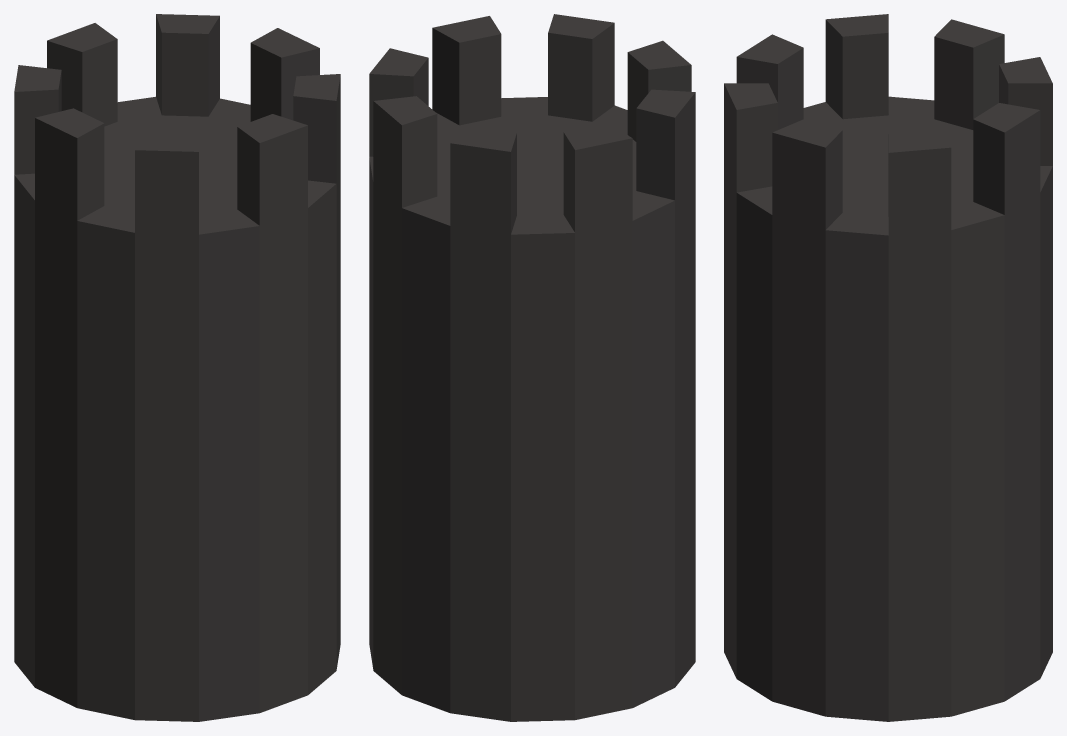
The model's file is Lava_Building2.fbx.
3 views of the same model, side by side, from view 1: azimuth 30°, elevation 25°; view 2: azimuth 150°, elevation 25°; view 3: azimuth 270°, elevation 25° (orthographic).
Visible parts, largest first — view 1: Lava_Building2; view 2: Lava_Building2; view 3: Lava_Building2.
Boxes of the visible parts, bbox=[...] form: Lava_Building2: bbox=[14, 14, 340, 721]; Lava_Building2: bbox=[369, 14, 695, 721]; Lava_Building2: bbox=[724, 14, 1052, 721].
Bounding box in the file's own units: 925 × 1767 × 925.
